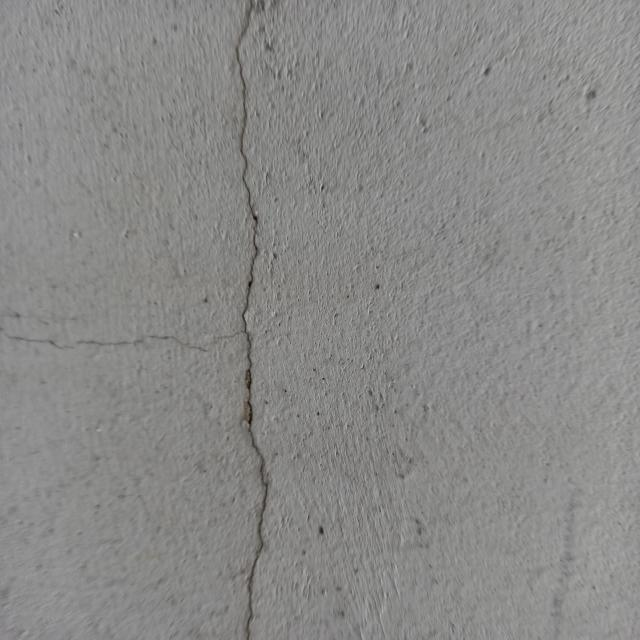SurfaceCrack: (194, 0, 313, 638)
